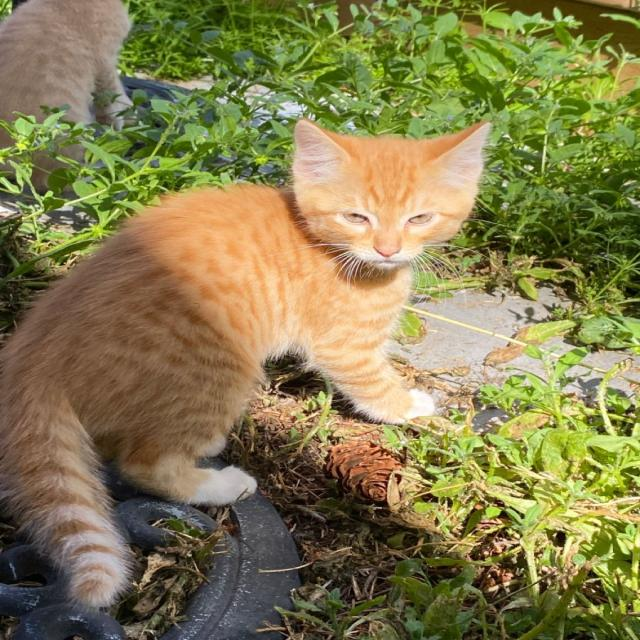sarman: (7, 83, 640, 612)
